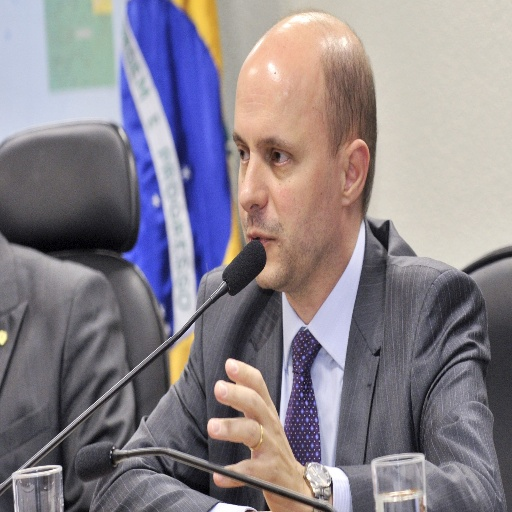hand: (216, 363, 308, 503)
